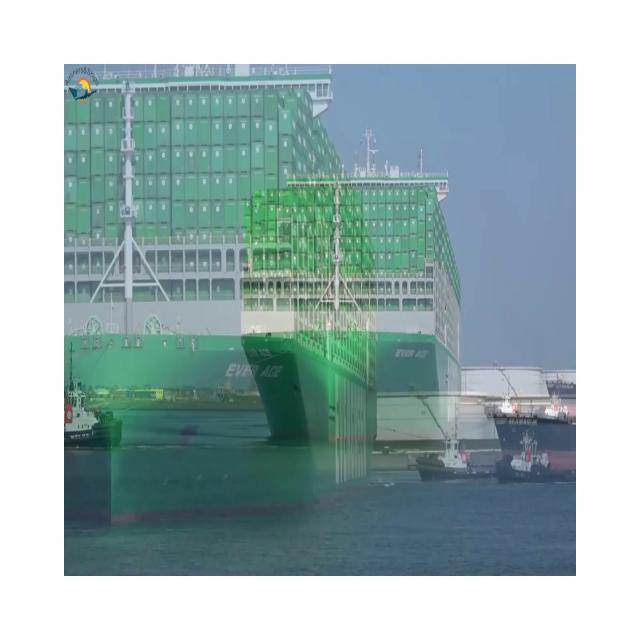OCR: (220, 352, 283, 396)
